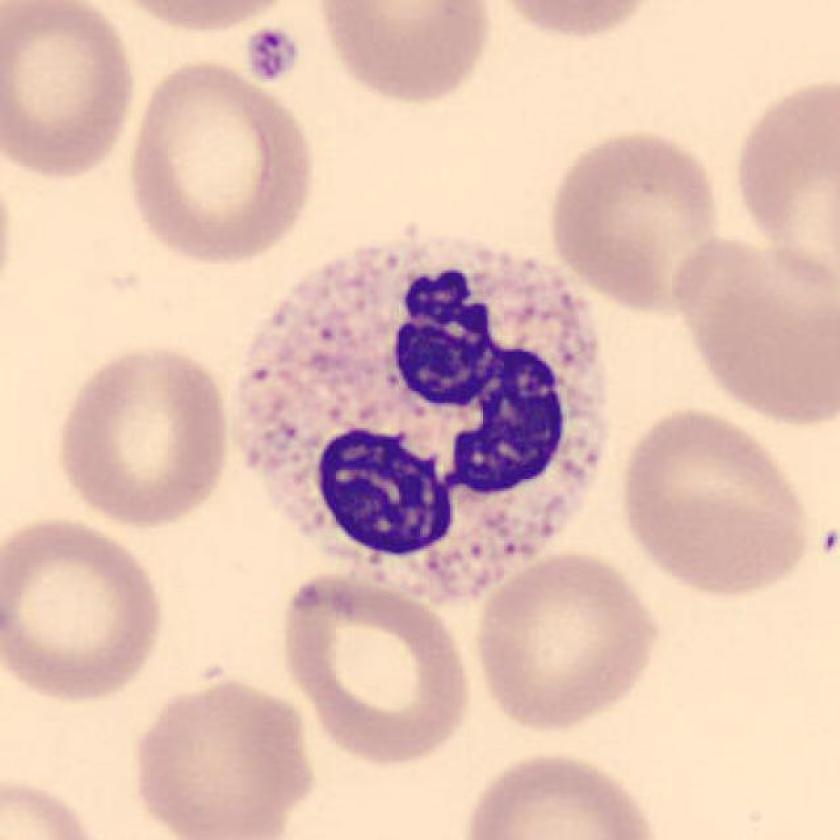neutrophil: (236, 239, 609, 604)
